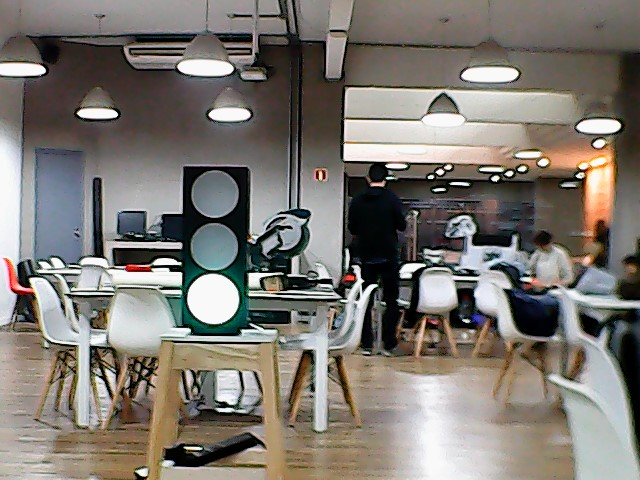verde: (177, 163, 256, 338)
